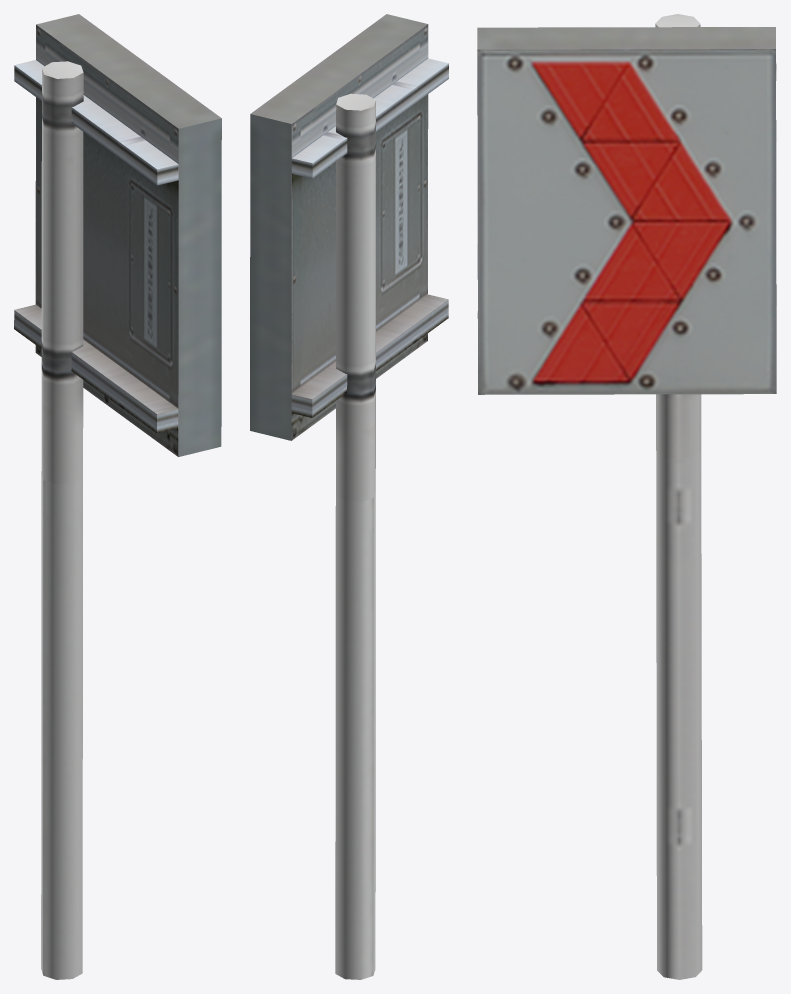
File: Preset_ArrowSignB_R.fbx
3 renders of one model, left to right at view 1: azimuth 30°, elevation 25°; view 2: azimuth 150°, elevation 25°; view 3: azimuth 270°, elevation 25°, orthographic. The views are drawn at different scales.
Parts seen in each view (by area): view 1: Frame, Pole; view 2: Frame, Pole; view 3: Ref, Pole, Frame.
Boxes of the visible parts, <box> form: Frame: <box>14,14,221,456</box>; Pole: <box>41,61,83,979</box>; Frame: <box>250,14,448,440</box>; Pole: <box>335,93,375,979</box>; Ref: <box>477,49,776,394</box>; Pole: <box>655,14,702,979</box>; Frame: <box>477,27,776,318</box>.
Bounding box in the file's own units: 13.38 × 40.09 × 141.
3 materials, 3 textured.
